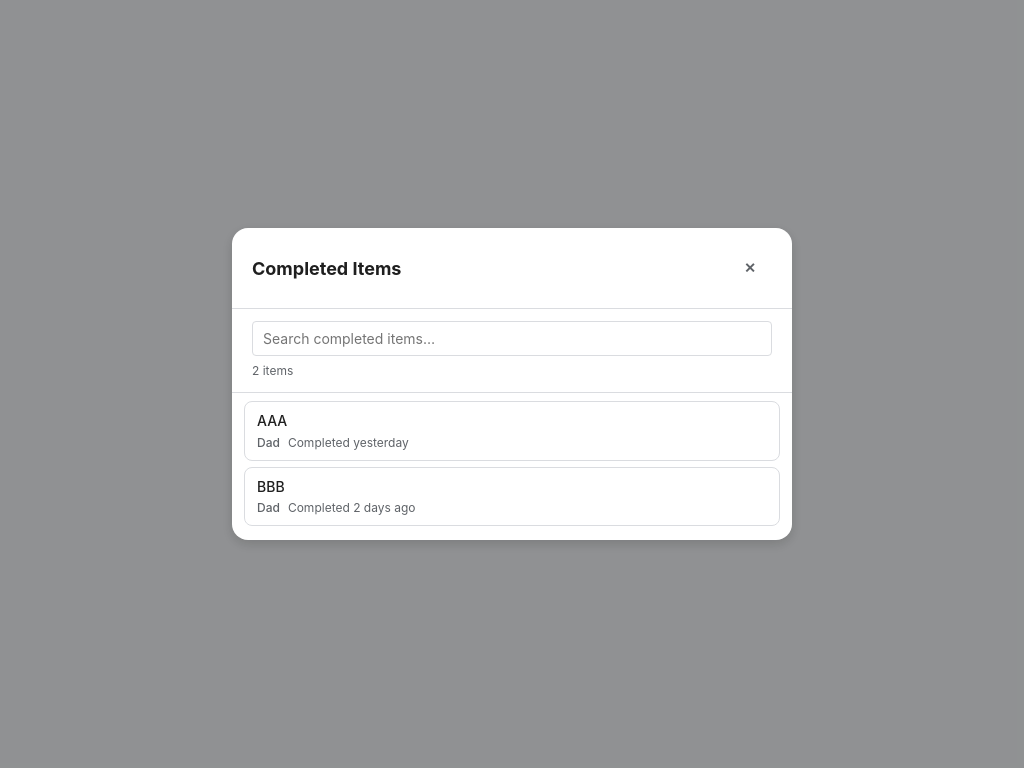
Test: Archive search (AC4) › clears search when clear button is clicked
Step 1. Type "AAA" into the field with class "archive-search-input" → (512, 339), box [252,321,772,356]
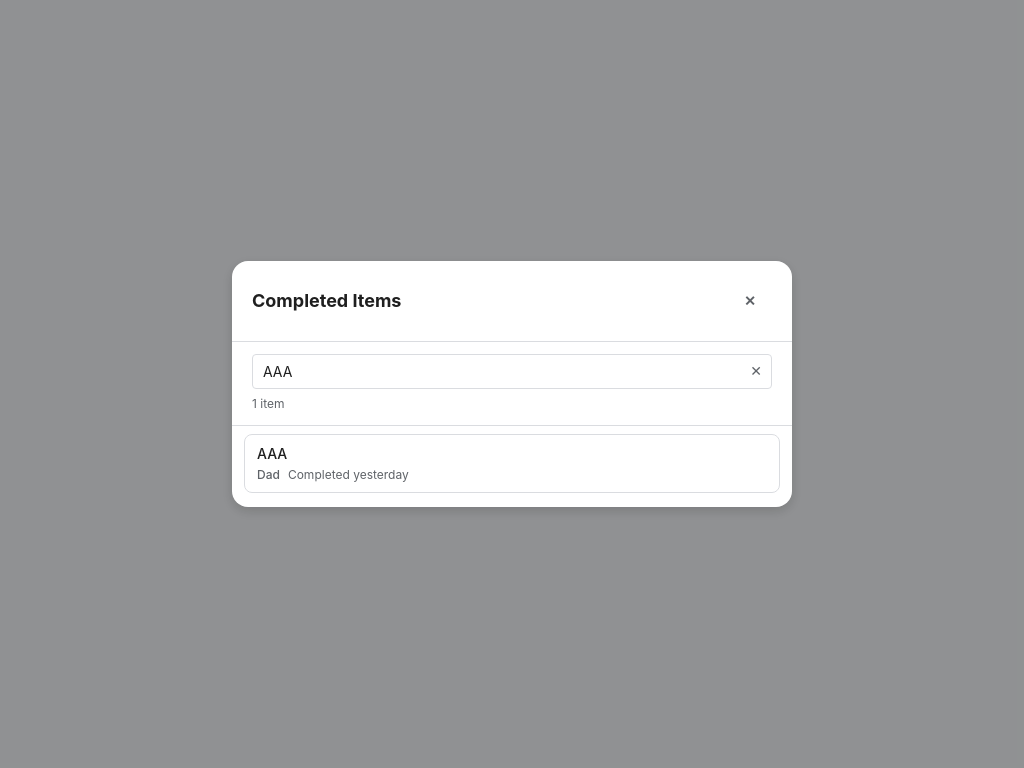
expect the number of buttons with class "archive-item" is 1: met, box [244,434,780,493]
Step 2. Click the button with class "archive-search-clear" → (756, 371), box [744,359,768,383]
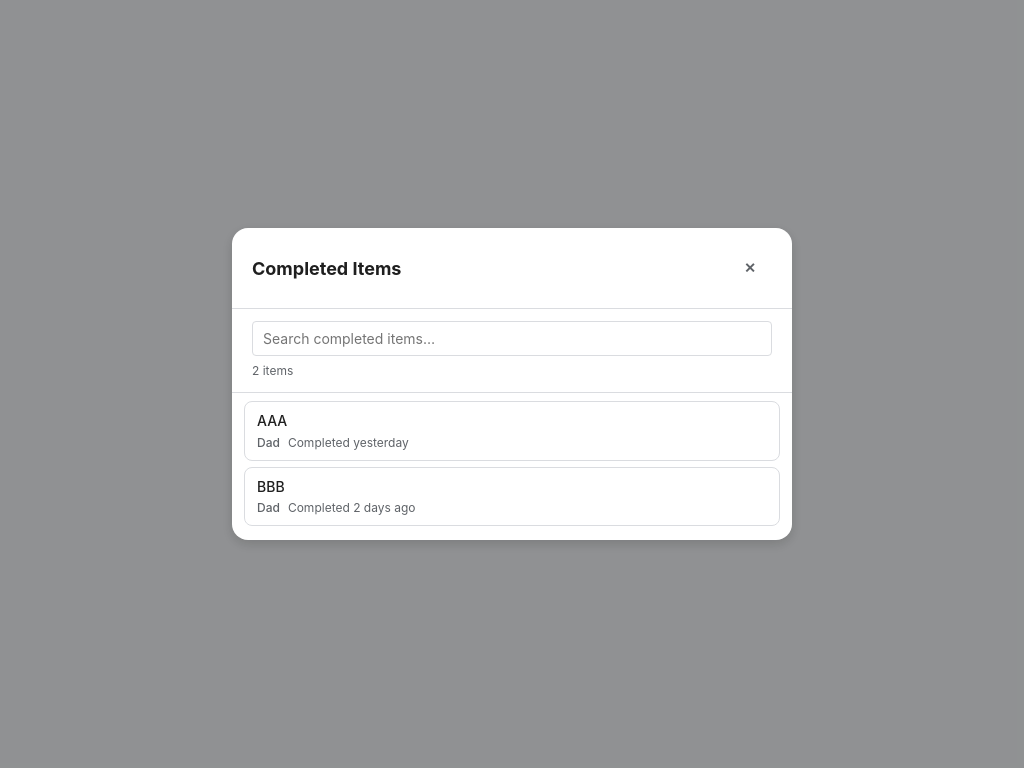
expect the number of buttons with class "archive-item" is 2: met, box [244,401,780,460]; [244,466,780,526]
